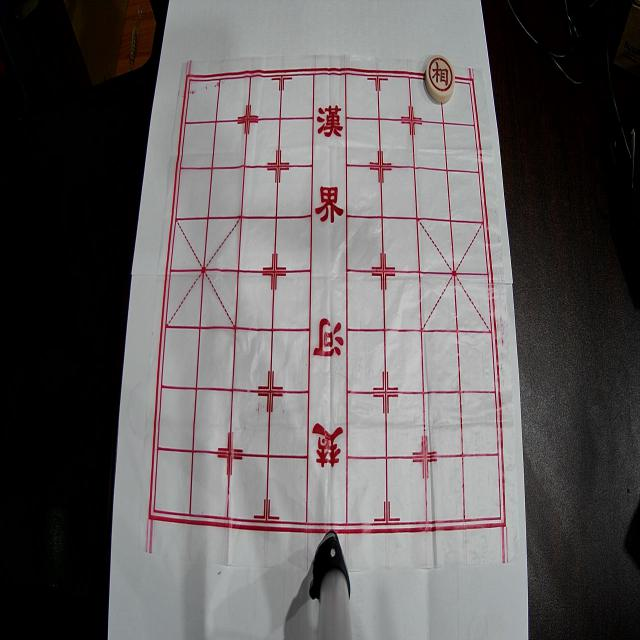red-elephant: (426, 54, 454, 102)
